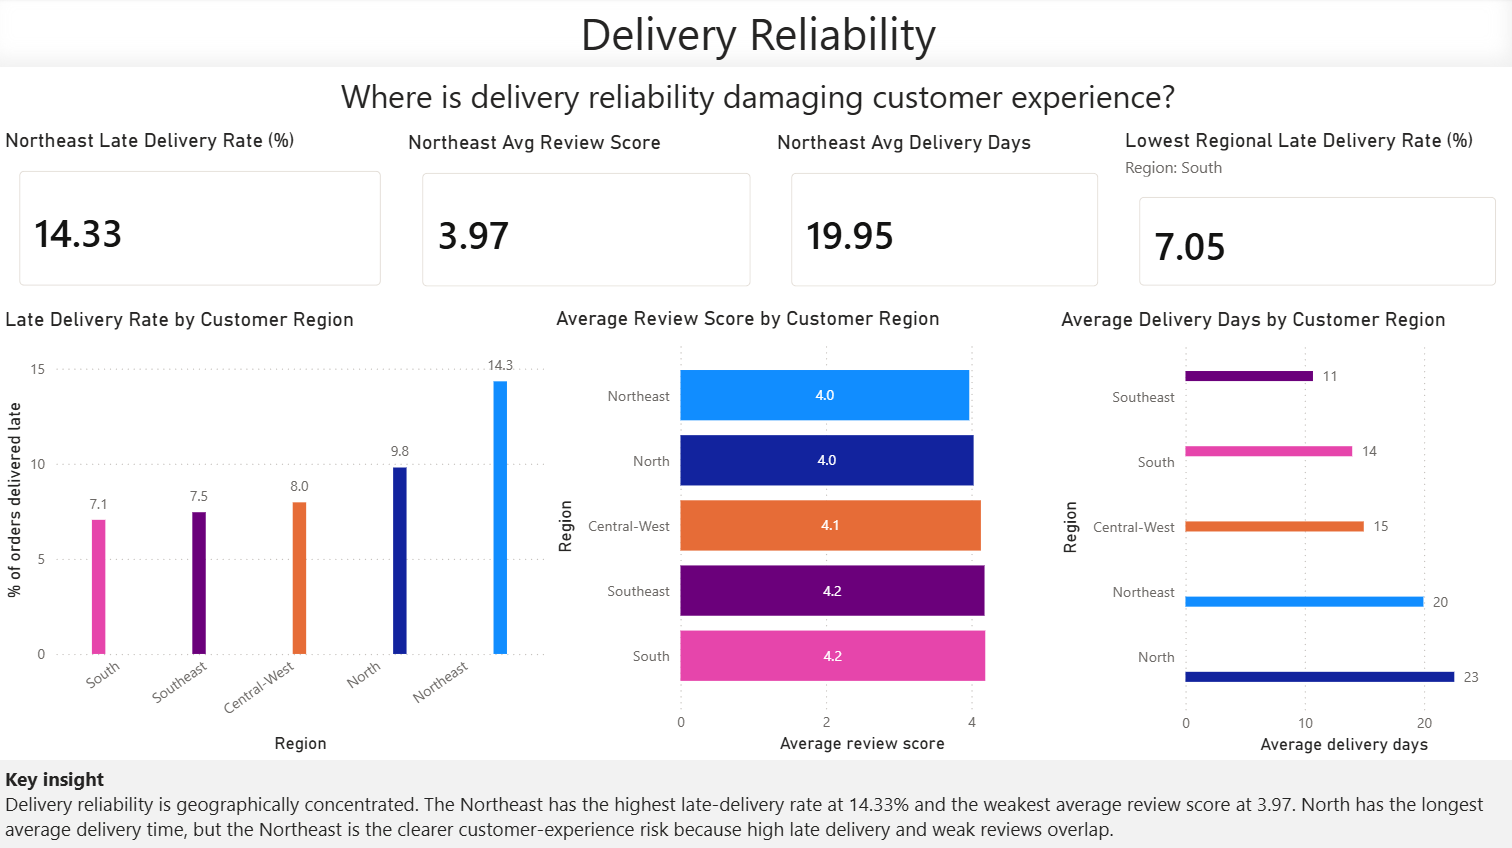

The page's visual inventory and layout, read from the dashboard file:
{"tool":"powerbi","page":{"name":"Delivery Reliability","canvas":[1280,720],"ordinal":2},"visuals":[{"type":"textbox","box":[0,0,1280,59.5],"z":0},{"type":"textbox","box":[0,59.5,1280,52.3],"z":1000},{"type":"cardVisual","title":"Northeast Late Delivery Rate (%)","fields":{"Data":["Sum(Region Delivery.late_delivery_rate_pct)"]},"box":[0,110.8,339.5,150.8],"z":2000},{"type":"cardVisual","title":"Northeast Avg Review Score","fields":{"Data":["Sum(Region Delivery.avg_review_score)"]},"box":[339.5,111.8,311.8,149.7],"z":3000},{"type":"cardVisual","title":"Northeast Avg Delivery Days","fields":{"Data":["Sum(Region Delivery.avg_delivery_days)"]},"box":[651.3,111.8,293.3,149.7],"z":4000},{"type":"cardVisual","title":"Lowest Regional Late Delivery Rate (%)","fields":{"Data":["Sum(Region Delivery.late_delivery_rate_pct)"]},"box":[944.6,110.8,335.4,150.8],"z":5000},{"type":"clusteredColumnChart","title":"Late Delivery Rate by Customer Region","fields":{"Category":["Region Delivery.region"],"Y":["Sum(Region Delivery.late_delivery_rate_pct)"],"Series":["Region Delivery.region"]},"box":[0,261.5,464.6,380.5],"z":6000},{"type":"barChart","title":"Average Review Score by Customer Region","fields":{"Category":["Region Delivery.region"],"Y":["Sum(Region Delivery.avg_review_score)"],"Series":["Region Delivery.region"]},"box":[464.6,260.5,425.6,381.5],"z":7000},{"type":"clusteredBarChart","title":"Average Delivery Days by Customer Region","fields":{"Category":["Region Delivery.region"],"Y":["Sum(Region Delivery.avg_delivery_days)"],"Series":["Region Delivery.region"]},"box":[890.3,261.5,389.7,381.5],"z":8000},{"type":"textbox","box":[0,643.1,1280,76.9],"z":9000}]}

Visuals, with their boxes in screenshot pixels (x1, y1, x2, y2), scaled from the page's 1280x720 canvas onto the 1512x848 screenshot:
textbox: box=[0, 0, 1511, 70]
textbox: box=[0, 70, 1511, 132]
"Northeast Late Delivery Rate (%)" cardVisual: box=[0, 130, 401, 308]
"Northeast Avg Review Score" cardVisual: box=[401, 132, 769, 308]
"Northeast Avg Delivery Days" cardVisual: box=[769, 132, 1116, 308]
"Lowest Regional Late Delivery Rate (%)" cardVisual: box=[1116, 130, 1511, 308]
"Late Delivery Rate by Customer Region" clusteredColumnChart: box=[0, 308, 549, 756]
"Average Review Score by Customer Region" barChart: box=[549, 307, 1052, 756]
"Average Delivery Days by Customer Region" clusteredBarChart: box=[1052, 308, 1511, 757]
textbox: box=[0, 757, 1511, 847]
